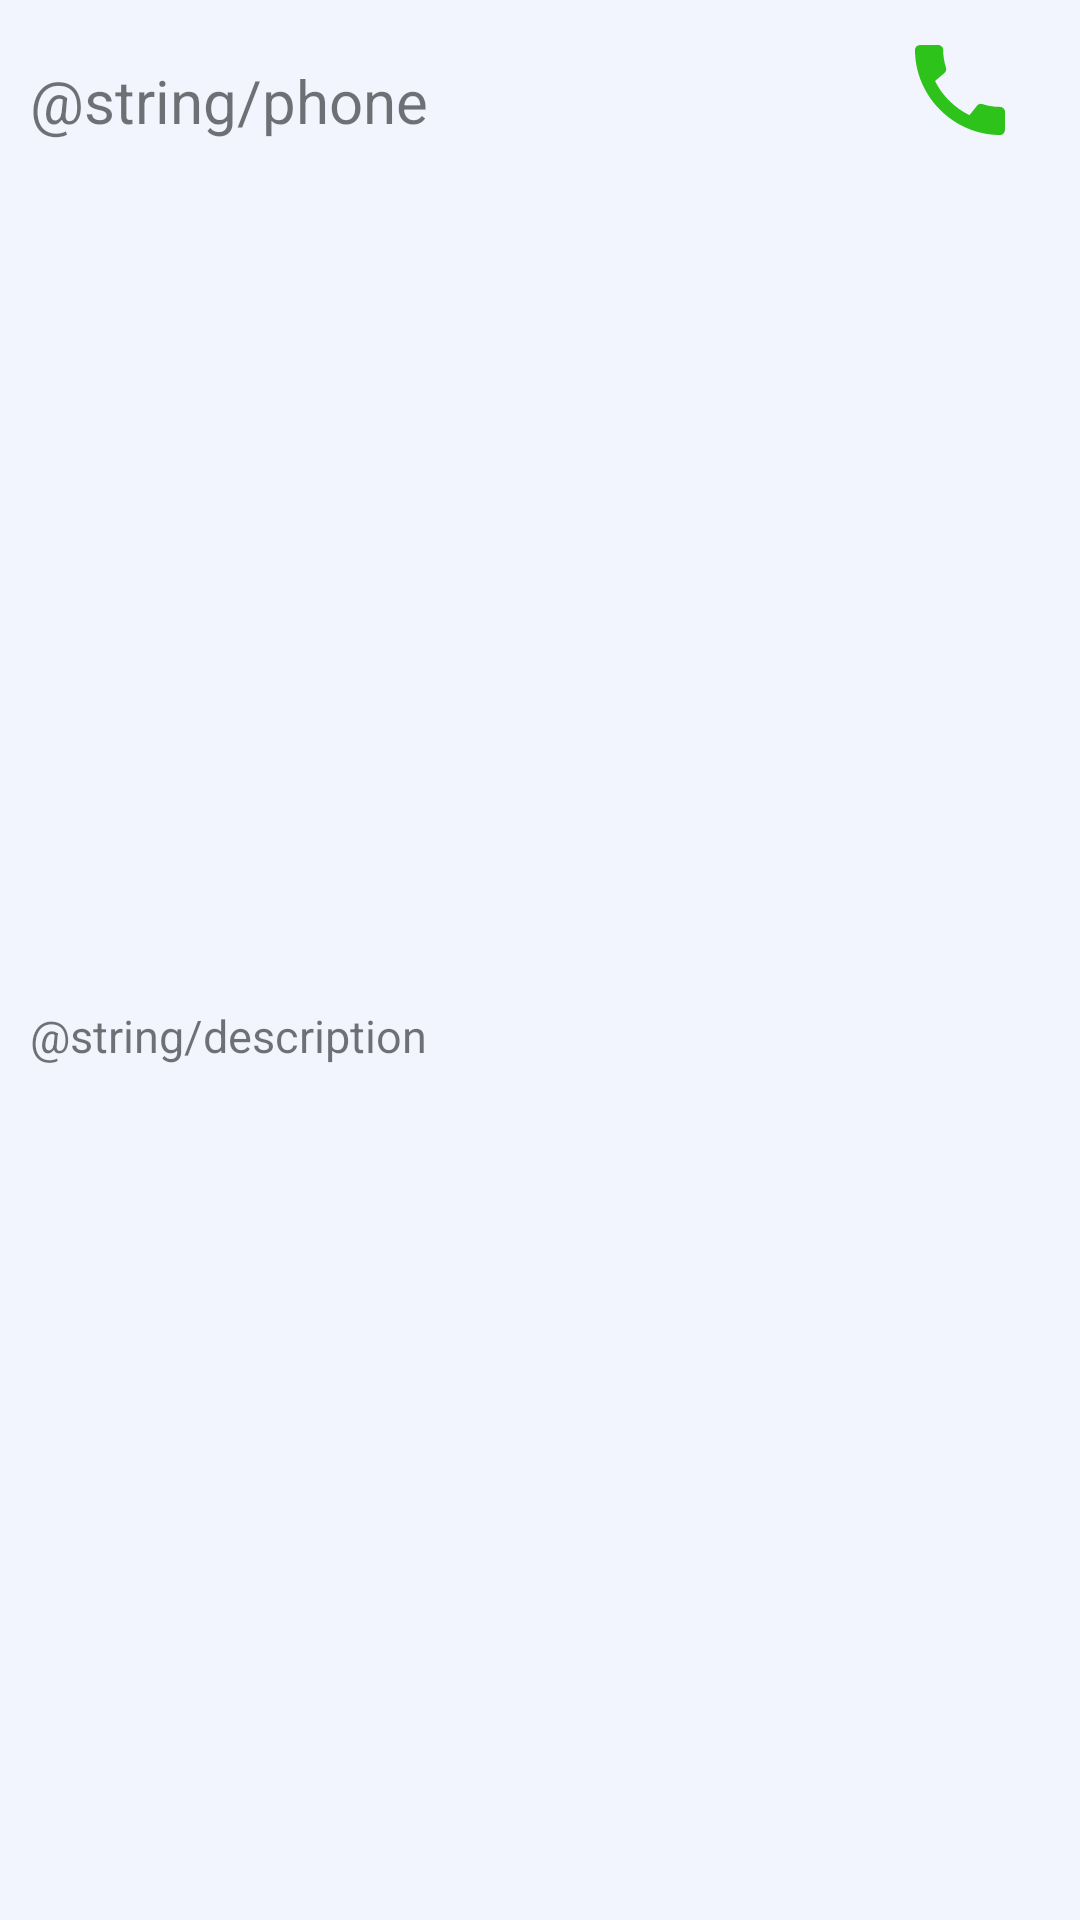

Screen size 1080 × 1920. Icon name, then its box in pixels as (x1, y1, x2, y2):
call: (915, 45, 1005, 135)
